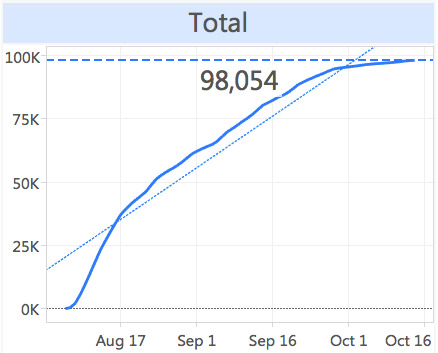OK_NoIssue: (7, 7, 438, 353)
